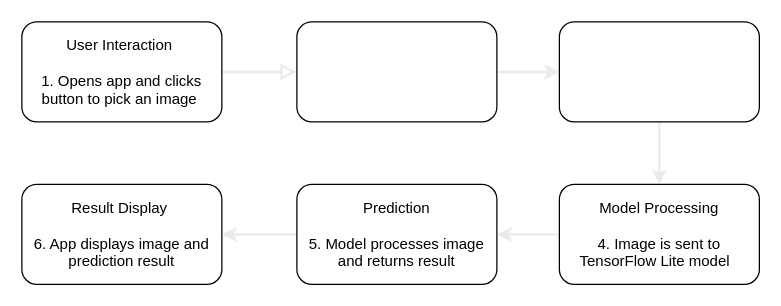
Some shapes in this 781 by 306 pixel diagram are drawn without their labels. The box of each missing label's shape, as (x1, y1, x2, y2) in pixels:
Image Loading 3. App loads the selected image: (558, 21, 759, 122)
Image Selection 2. User selects an image from gallery: (296, 21, 497, 122)
